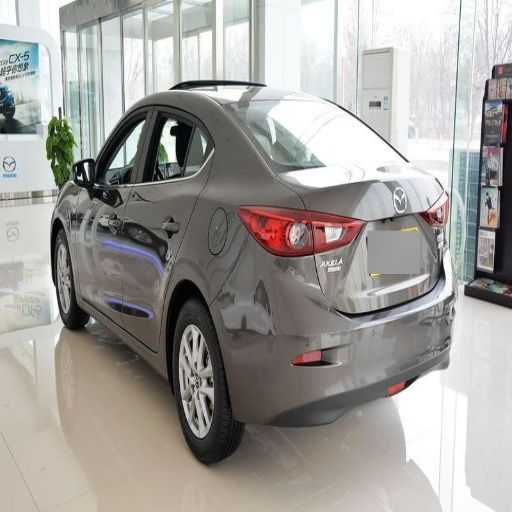_background_: (214, 251, 454, 423)
back_bumper: (234, 89, 394, 168)
back_glass: (123, 103, 212, 338)
back_left_door: (239, 207, 314, 256)
front_glass: (80, 102, 151, 319)
right_mirror: (285, 156, 448, 312)
trunk: (169, 300, 243, 464), (53, 227, 76, 325)
